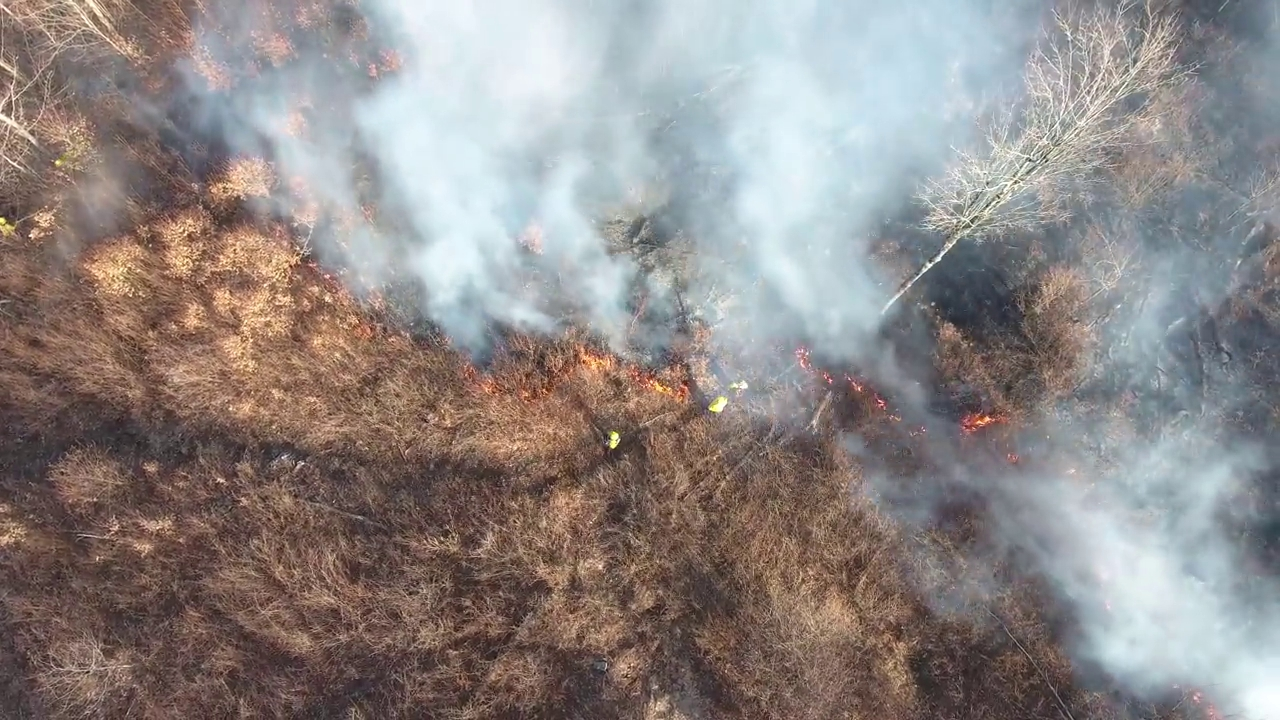forest_fire: (575, 346, 691, 401), (961, 413, 1002, 433), (845, 377, 866, 391)
